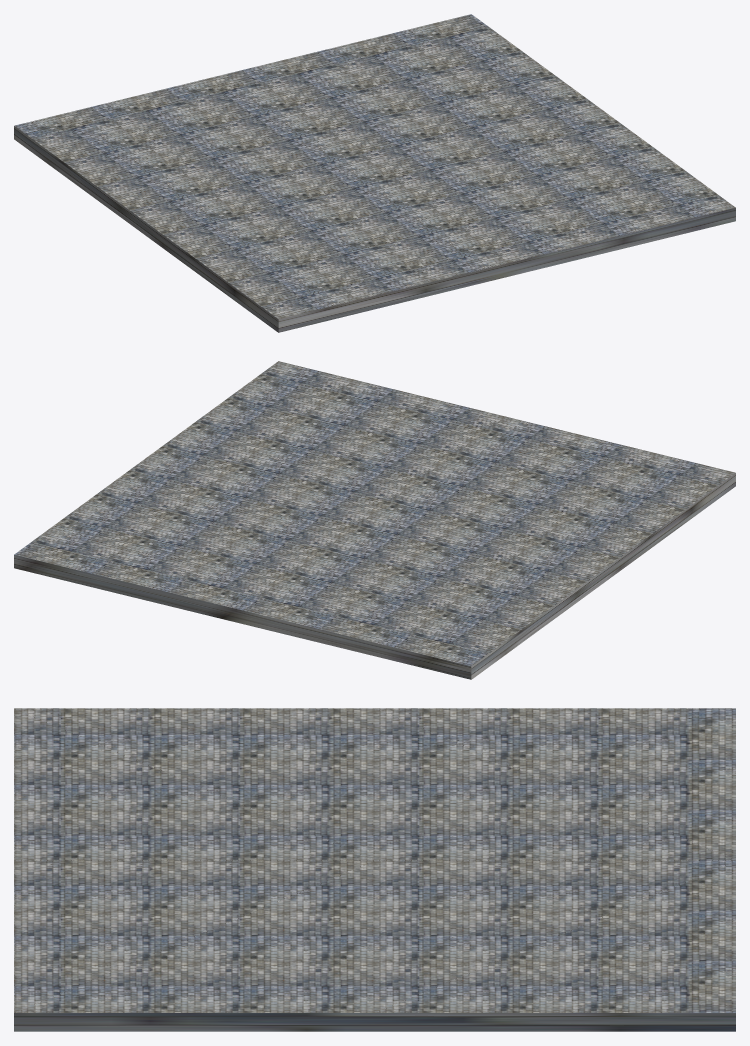
File: Floor_texture.gltf
The picture shows the model from 3 angles, top to bottom: view 1: azimuth 30°, elevation 25°; view 2: azimuth 150°, elevation 25°; view 3: azimuth 270°, elevation 25°; orthographic projection. The views are drawn at different scales.
Parts seen in each view (by area): view 1: pCube1; view 2: pCube1; view 3: pCube1.
Part boxes in pixels (box(x1,y1,x2,y2)): pCube1: box(14, 14, 735, 332); pCube1: box(14, 361, 735, 679); pCube1: box(14, 708, 735, 1031).
Size of the model in its own units: 119 by 3.37 by 119.
1 material, 1 textured.
